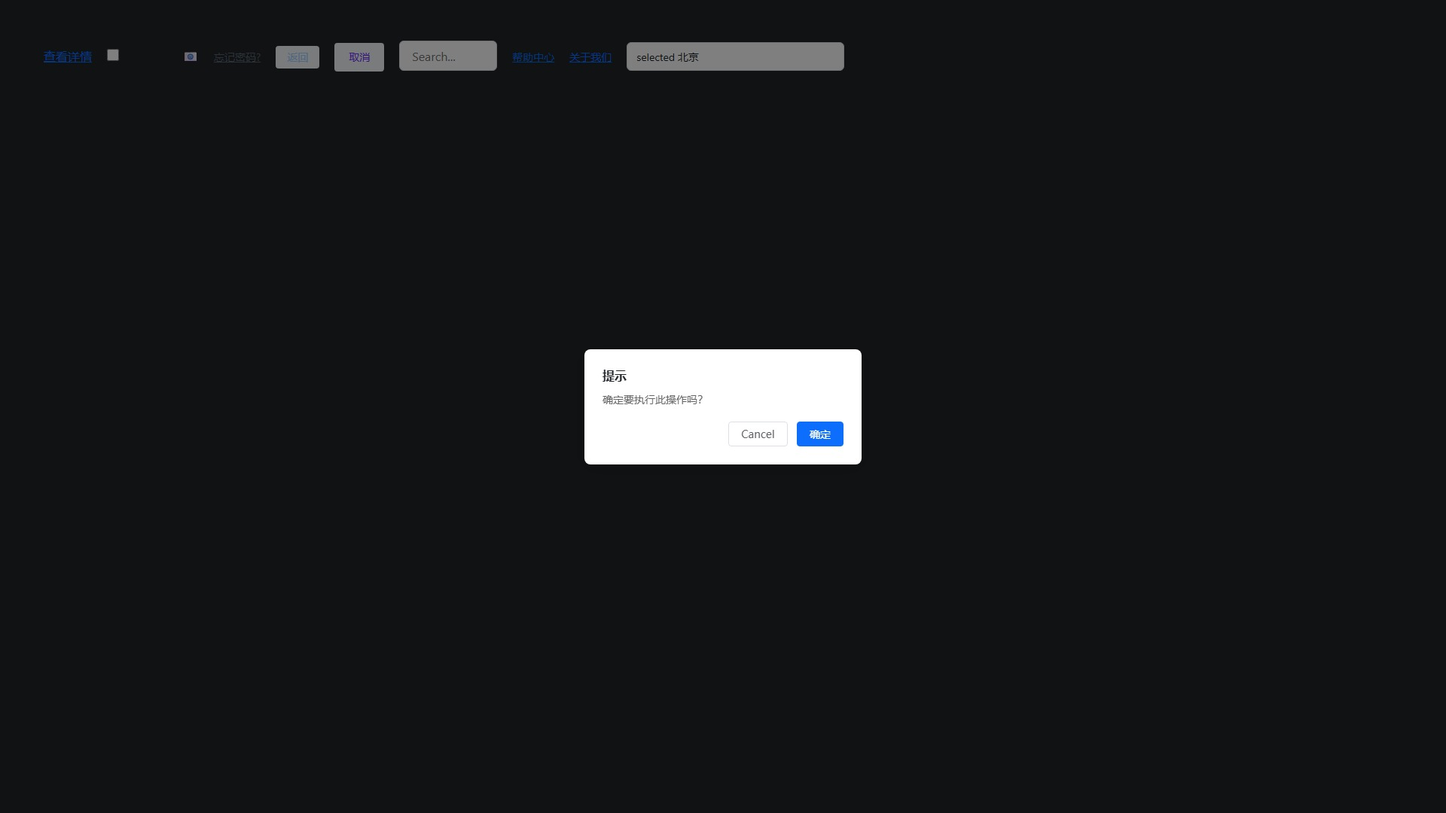button: (728, 421, 787, 446), (335, 43, 384, 71), (797, 421, 843, 446), (276, 46, 320, 68)
checkbox: (107, 49, 119, 61)
icon: (125, 47, 167, 62), (182, 50, 199, 62)
input: (399, 41, 497, 71)
link: (44, 48, 92, 64), (214, 49, 261, 64), (512, 49, 554, 64), (570, 49, 612, 64)
modal: (0, 0, 1446, 813)
radio: (107, 47, 167, 62)
select: (627, 42, 844, 71)
